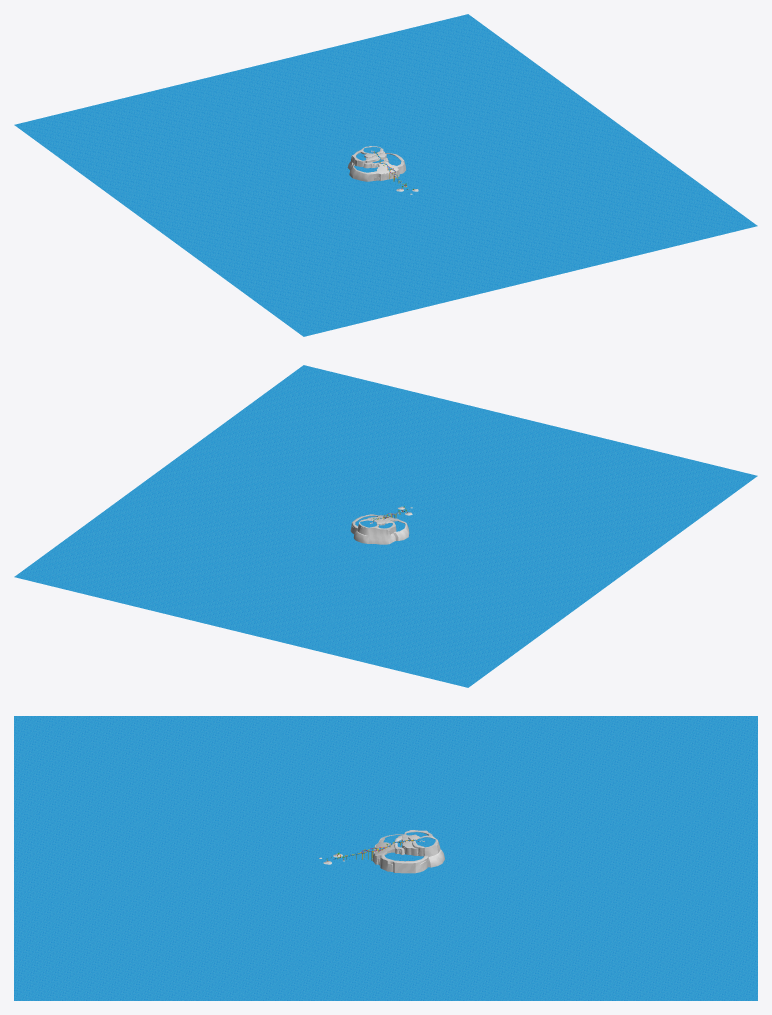
3 views of the same model, one above another, from view 1: azimuth 30°, elevation 25°; view 2: azimuth 150°, elevation 25°; view 3: azimuth 270°, elevation 25° (orthographic). The views are drawn at different scales.
Parts seen in each view (by area): view 1: Level14Waterplane, Level14Environment; view 2: Level14Waterplane, Level14Environment; view 3: Level14Waterplane, Level14Environment.
Part boxes in pixels (left/top/right/bottom): Level14Waterplane: left=14, top=14, right=757, bottom=336; Level14Environment: left=347, top=146, right=405, bottom=181; Level14Waterplane: left=14, top=365, right=757, bottom=687; Level14Environment: left=350, top=514, right=409, bottom=544; Level14Waterplane: left=14, top=716, right=757, bottom=1000; Level14Environment: left=372, top=830, right=444, bottom=873.
Bounding box in the file's own units: 2381 × 82.48 × 2630.
